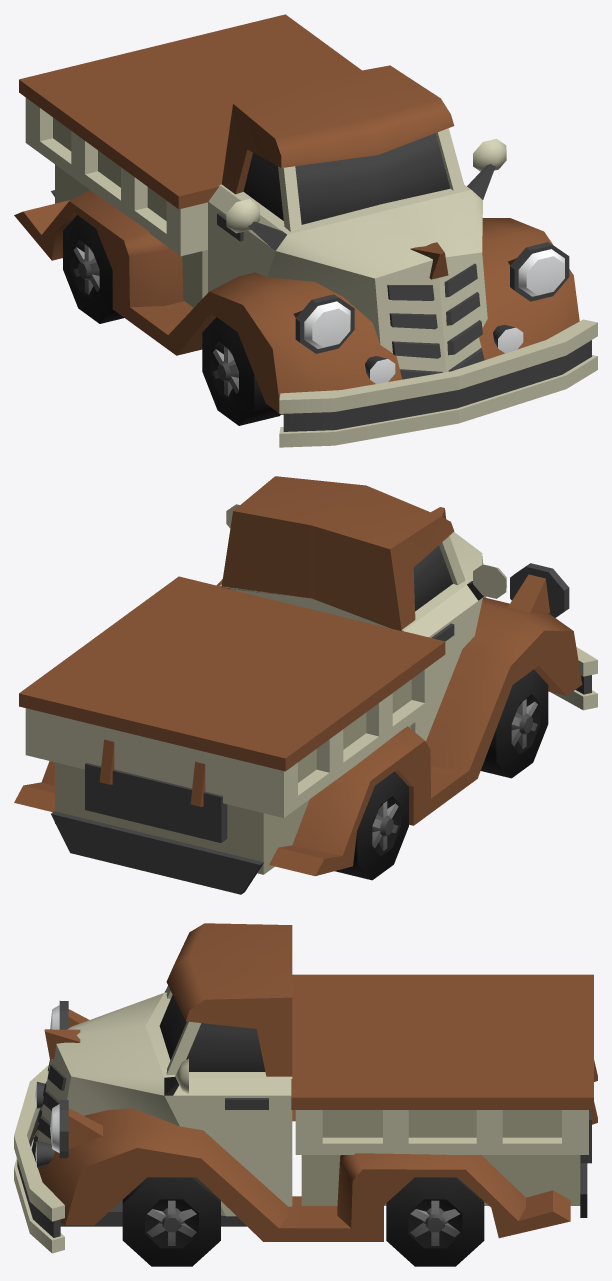
The model's file is head_A_2.fbx.
3 renders of one model, top to bottom at view 1: azimuth 30°, elevation 25°; view 2: azimuth 150°, elevation 25°; view 3: azimuth 270°, elevation 25°, orthographic. The views are drawn at different scales.
Parts seen in each view (by area): view 1: head_A_2; view 2: head_A_2; view 3: head_A_2.
Part boxes in pixels (x1=…): head_A_2: x1=14, y1=14, x2=597, y2=447; head_A_2: x1=14, y1=476, x2=597, y2=894; head_A_2: x1=14, y1=923, x2=597, y2=1266.
Bounding box in the file's own units: 14.89 × 11.43 × 25.
